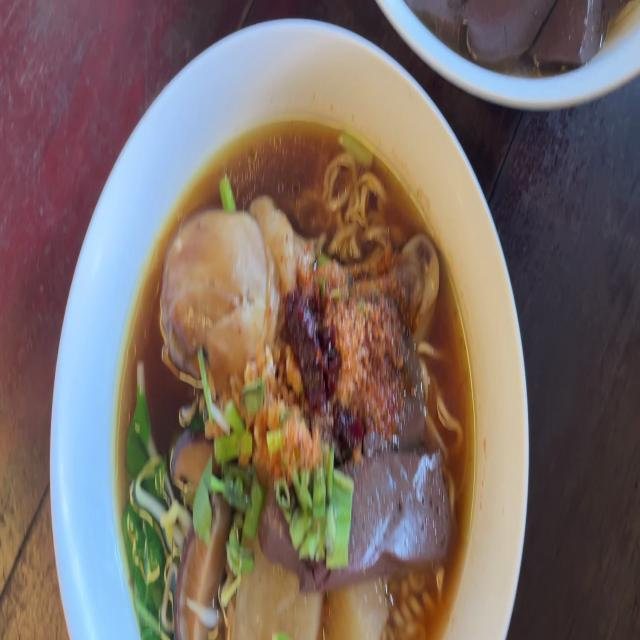noodle: (165, 209, 445, 640)
